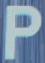Parking: (3, 3, 43, 62)
